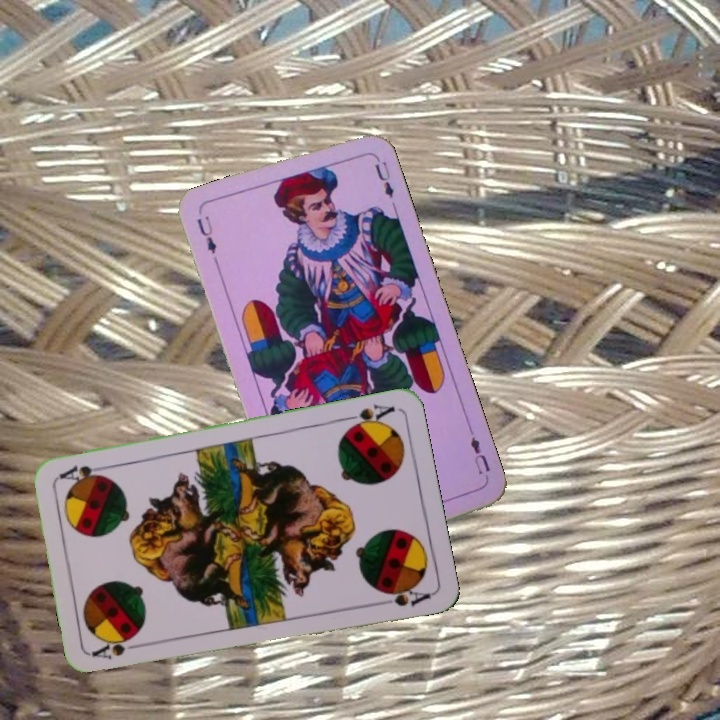EU: (465, 426, 493, 484), (193, 211, 220, 257)
SA: (339, 400, 398, 433), (89, 639, 148, 662)
